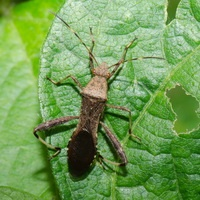insect: (33, 12, 163, 175), (95, 123, 121, 163)
